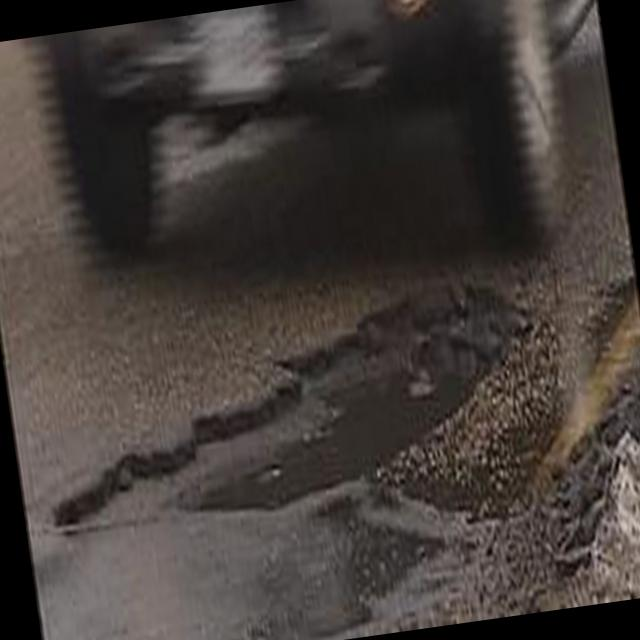Potholes: (24, 257, 546, 561), (452, 254, 640, 560)
